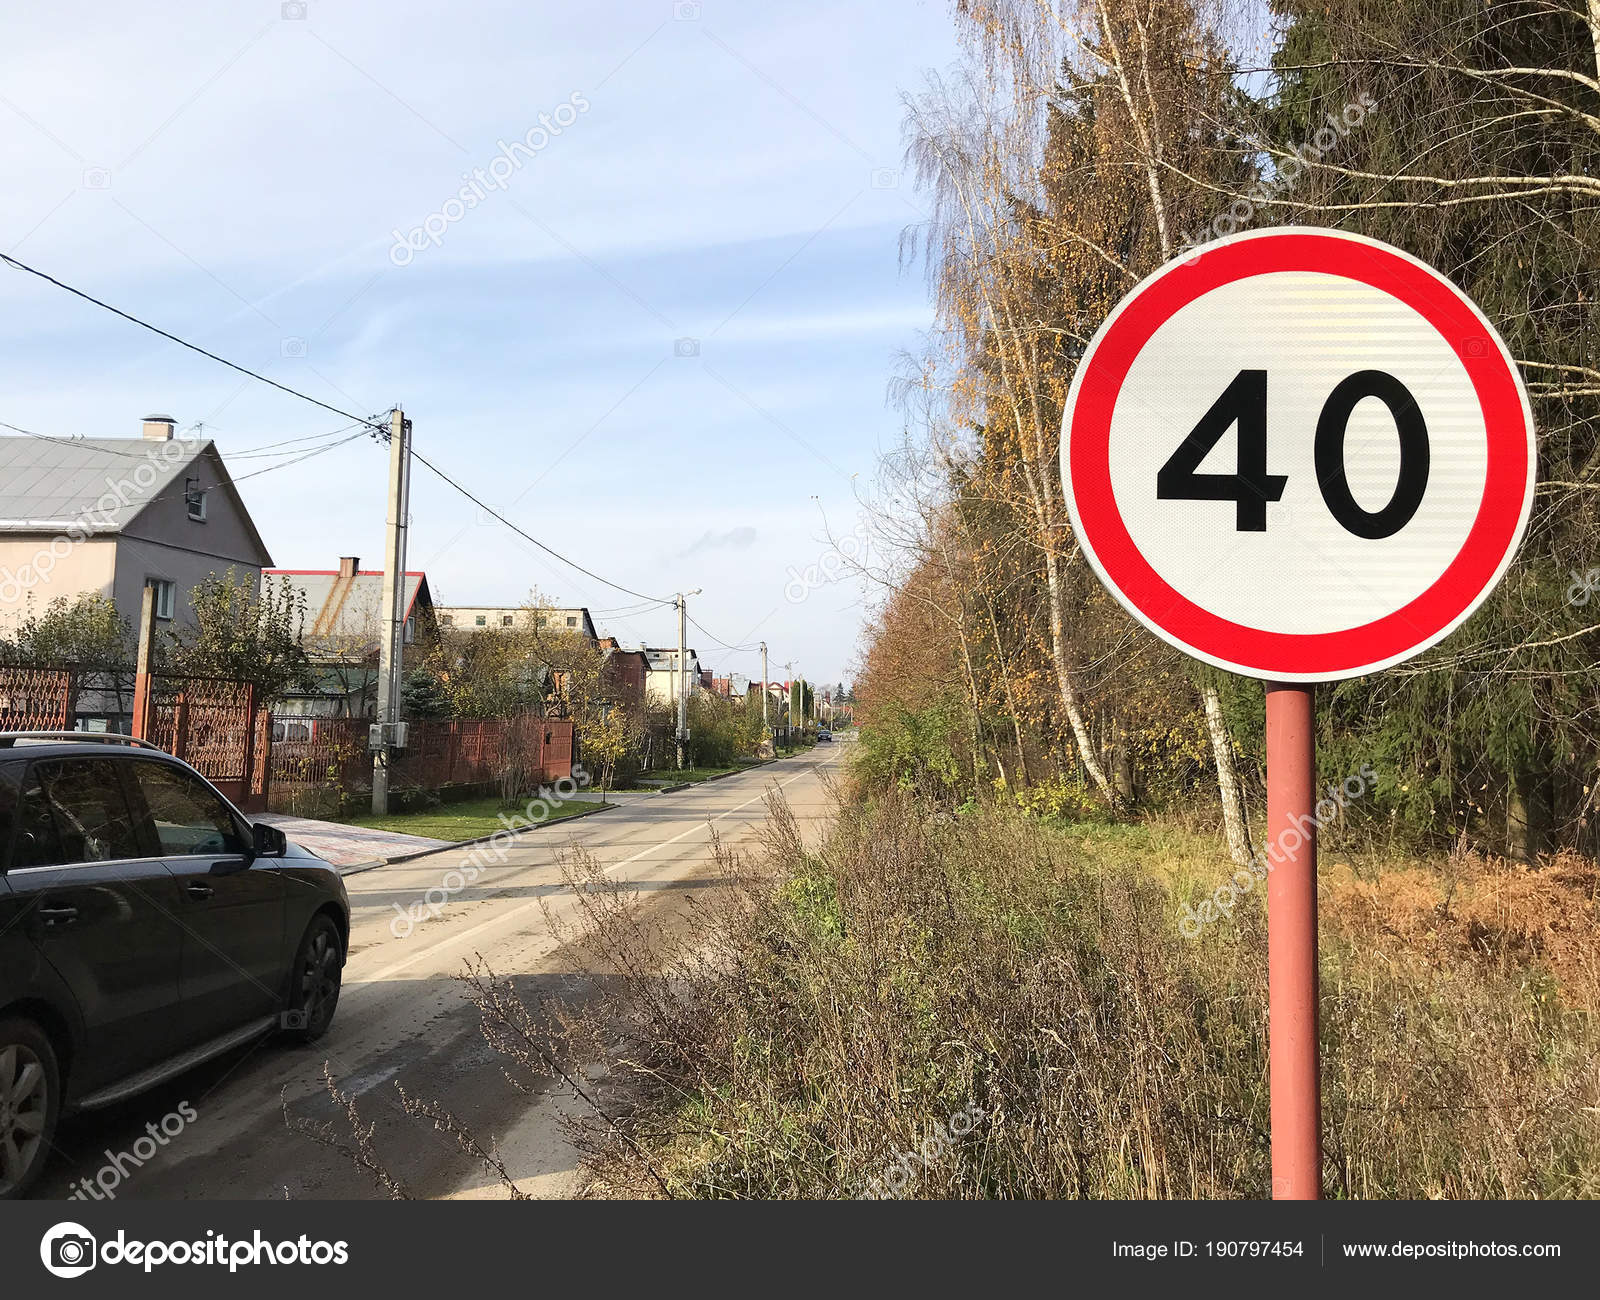40 Km/hr: (1072, 233, 1528, 673)
